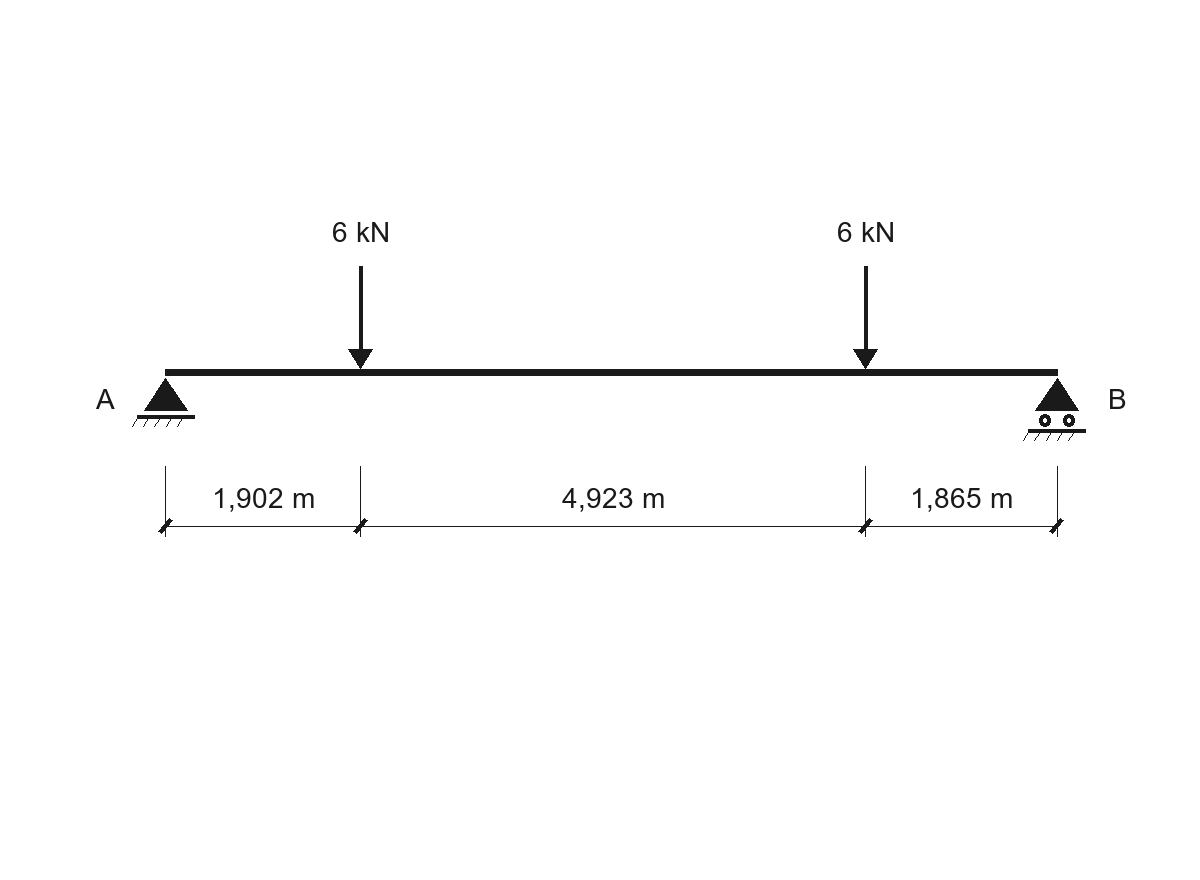pin_support: (132, 378, 195, 427)
point_load: (348, 266, 373, 369), (853, 266, 878, 369)
roller_support: (1023, 378, 1086, 441)
